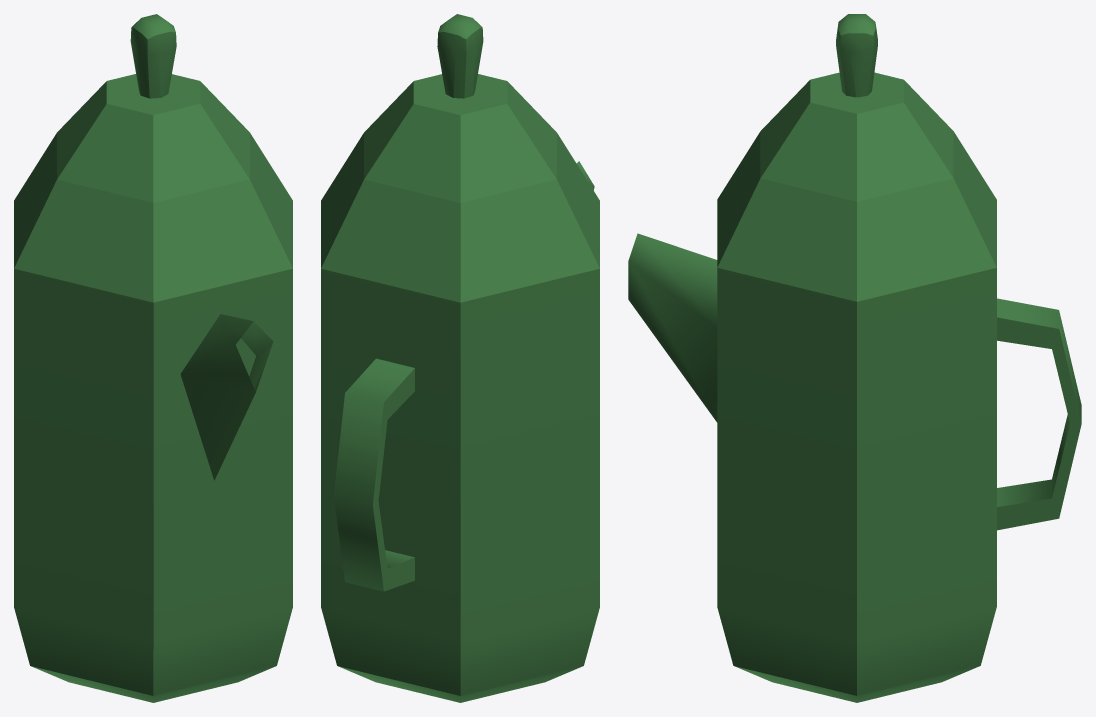
The model's file is kettle.fbx.
The picture shows the model from 3 angles, left to right: view 1: azimuth 30°, elevation 25°; view 2: azimuth 150°, elevation 25°; view 3: azimuth 270°, elevation 25°; orthographic projection.
Parts seen in each view (by area): view 1: polySurface648; view 2: polySurface648; view 3: polySurface648.
Boxes of the visible parts, bbox=[...] form: polySurface648: bbox=[14, 14, 292, 702]; polySurface648: bbox=[321, 14, 599, 702]; polySurface648: bbox=[628, 14, 1081, 702].
Bounding box in the file's own units: 1.34 × 2.96 × 1.89.
